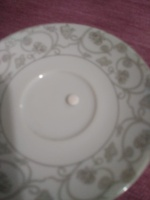Yuvarlak Buskopan: (66, 93, 80, 107)
